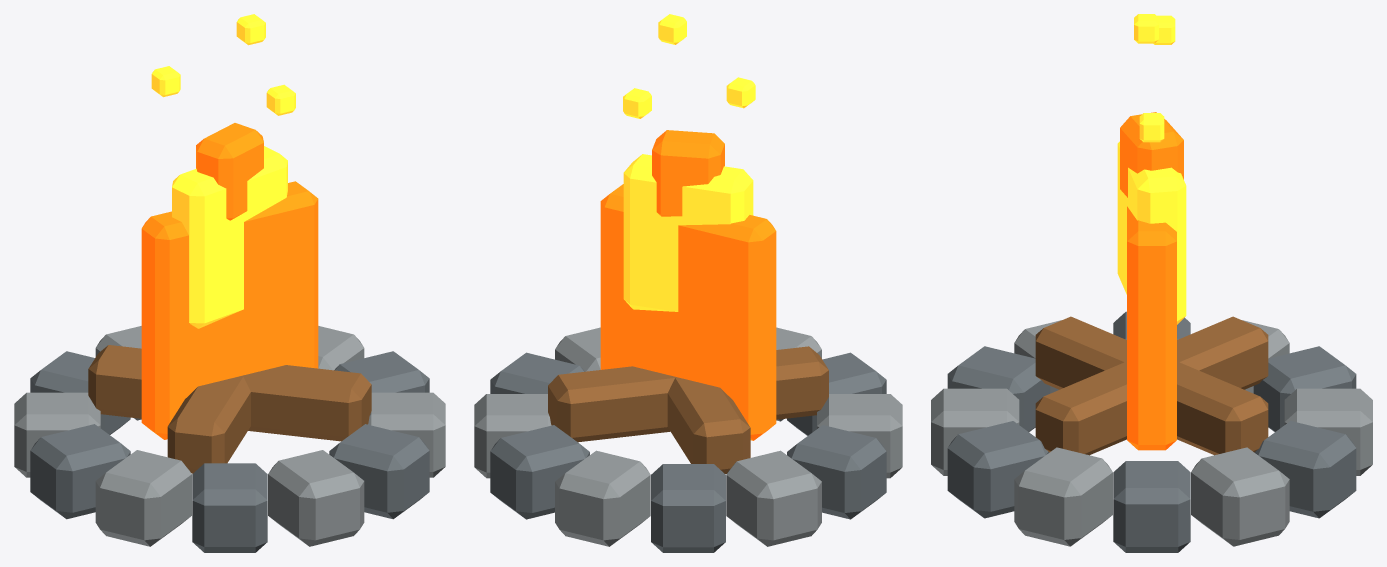
The model's file is voxhaven-campfire.glb.
3 renders of one model, left to right at view 1: azimuth 30°, elevation 25°; view 2: azimuth 150°, elevation 25°; view 3: azimuth 270°, elevation 25°, orthographic. The views are drawn at different scales.
Visible parts, largest first — view 1: Flame_0, Log_1, Flame_1, Stone_9, Stone_7, Stone_8, Stone_6, Stone_10, Log_0, Flame_2, Stone_5, Stone_11 (+7 smaller); view 2: Flame_0, Log_0, Flame_1, Stone_3, Stone_5, Stone_4, Stone_2, Stone_6, Log_1, Flame_2, Stone_7, Stone_1 (+7 smaller); view 3: Flame_0, Log_0, Log_1, Stone_1, Stone_11, Stone_0, Stone_2, Stone_10, Flame_1, Stone_3, Stone_9, Stone_4 (+6 smaller).
Boxes of the visible parts, x1,y1,x2,y2 form: Flame_0: (141,181,318,439); Log_1: (88,345,371,441); Flame_1: (172,146,287,328); Stone_9: (268,450,364,546); Stone_7: (95,450,191,546); Stone_8: (192,463,267,552); Stone_6: (30,424,130,519); Stone_10: (329,424,429,519); Log_0: (167,376,250,473); Flame_2: (196,123,263,220); Stone_5: (14,392,100,477); Stone_11: (368,392,445,477); Flame_0: (600,184,776,440); Log_0: (548,346,828,442); Flame_1: (623,154,753,311); Stone_3: (555,450,650,546); Stone_5: (726,450,821,546); Stone_4: (651,464,725,552); Stone_2: (490,425,589,519); Stone_6: (787,425,886,519); Log_1: (667,376,750,473); Flame_2: (652,130,724,216); Stone_7: (817,394,902,478); Stone_1: (474,394,551,478); Flame_0: (1127,206,1176,450); Log_0: (1035,316,1268,455); Log_1: (1035,316,1268,455); Stone_1: (1191,447,1289,546); Stone_11: (1014,447,1112,546); Stone_0: (1113,461,1190,552); Stone_2: (1254,421,1356,518); Stone_10: (947,421,1049,518); Flame_1: (1117,141,1186,324); Stone_3: (1284,388,1372,475); Stone_9: (931,388,1019,475); Stone_4: (1253,346,1356,431).
Bounding box in the file's own units: 1.6 × 1.82 × 1.6.
